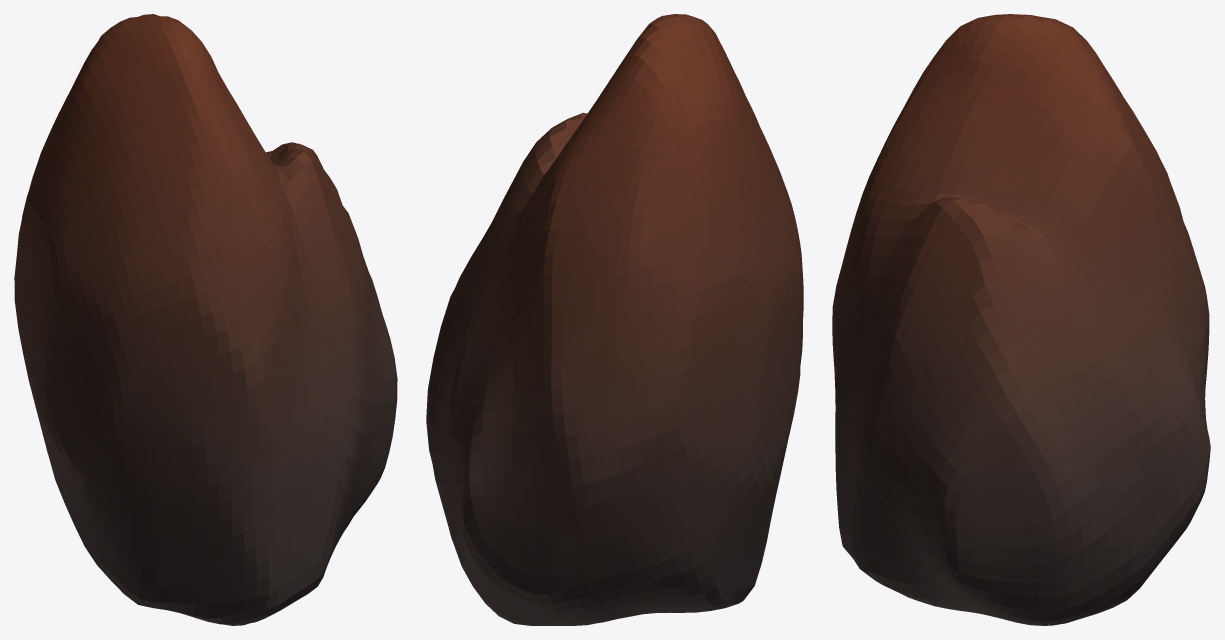
The model's file is Rock14_Textured.fbx.
3 renders of one model, left to right at view 1: azimuth 30°, elevation 25°; view 2: azimuth 150°, elevation 25°; view 3: azimuth 270°, elevation 25°, orthographic. The views are drawn at different scales.
Visible parts, largest first — view 1: GameJam_Rock2_ModelZbrush:Group52279; view 2: GameJam_Rock2_ModelZbrush:Group52279; view 3: GameJam_Rock2_ModelZbrush:Group52279.
Part boxes in pixels (x1,y1,x2,y2): GameJam_Rock2_ModelZbrush:Group52279: [14, 14, 397, 625]; GameJam_Rock2_ModelZbrush:Group52279: [426, 14, 803, 625]; GameJam_Rock2_ModelZbrush:Group52279: [832, 14, 1210, 625].
Bounding box in the file's own units: 1.11 × 1.95 × 1.19.
Materials: 1 (1 with a texture image).
